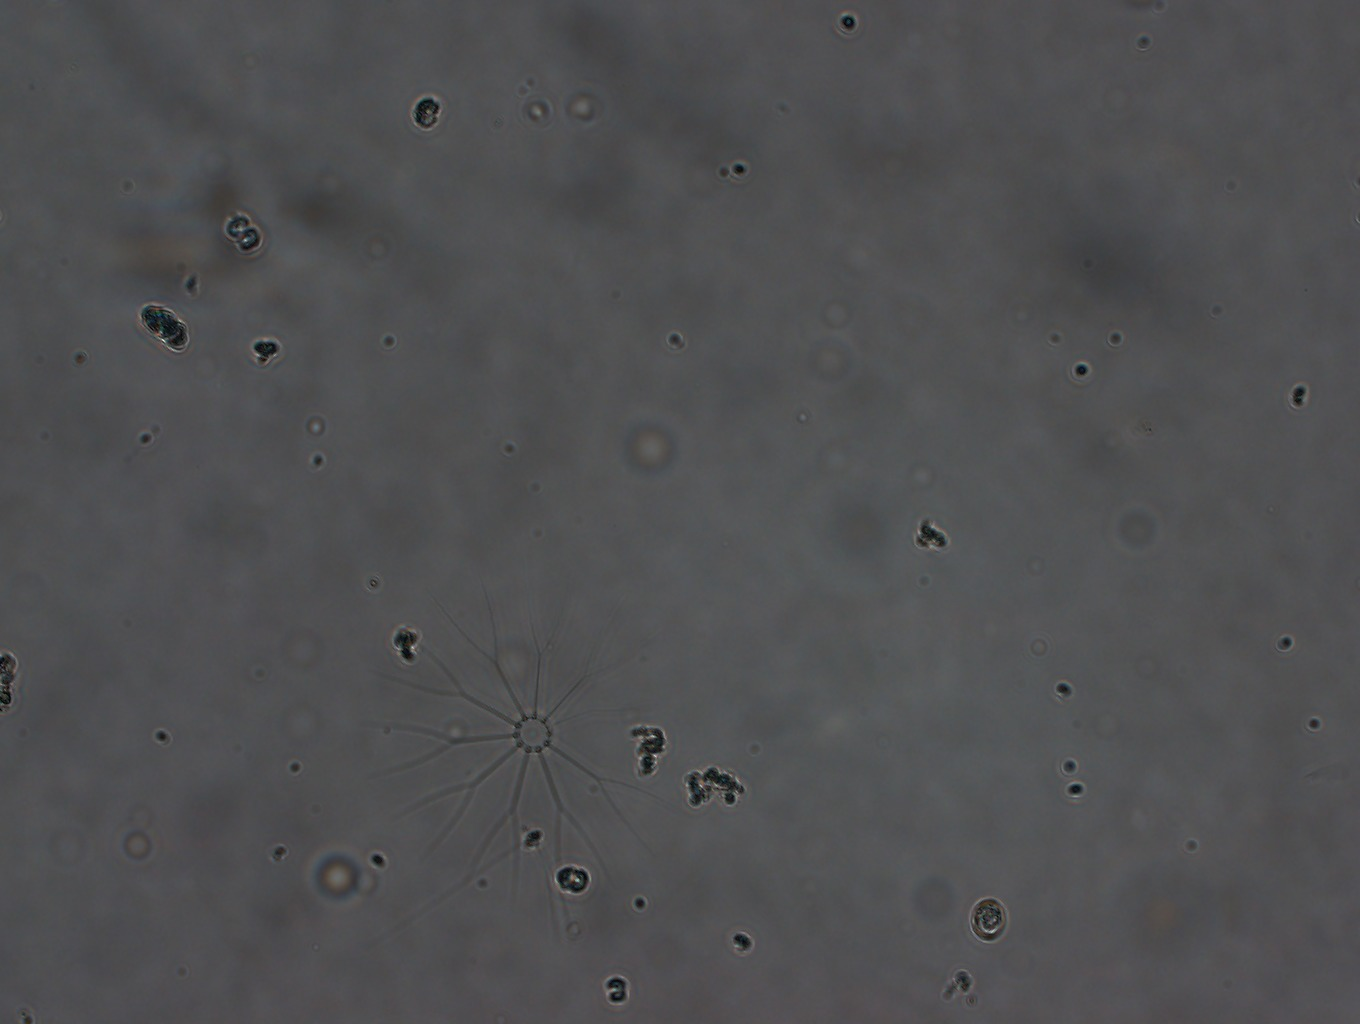bacteriastrum: (373, 587, 672, 934)
